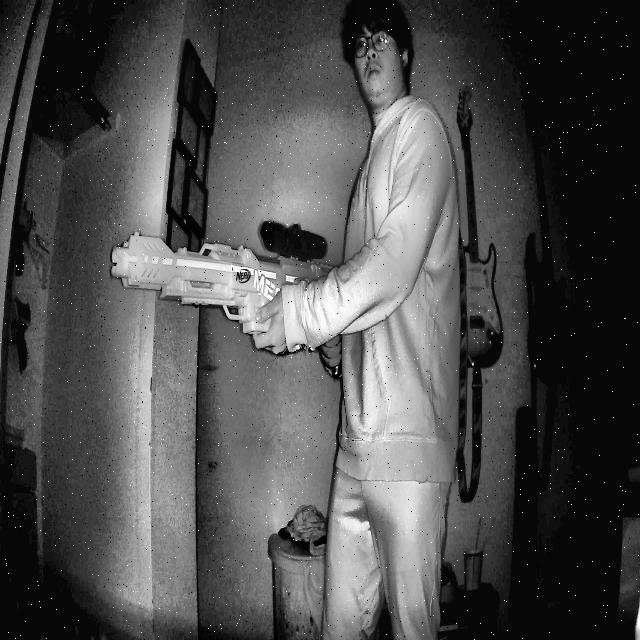Nerf_Blaster: (110, 180, 354, 406)
